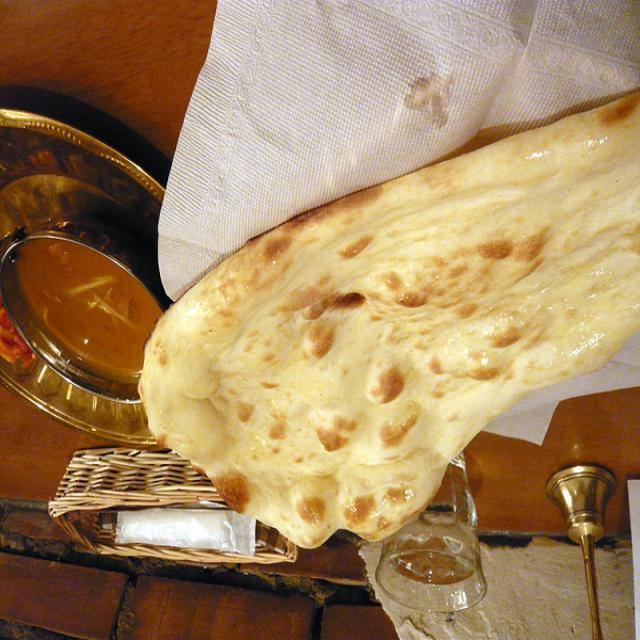Beef Curry: (0, 228, 169, 410)
